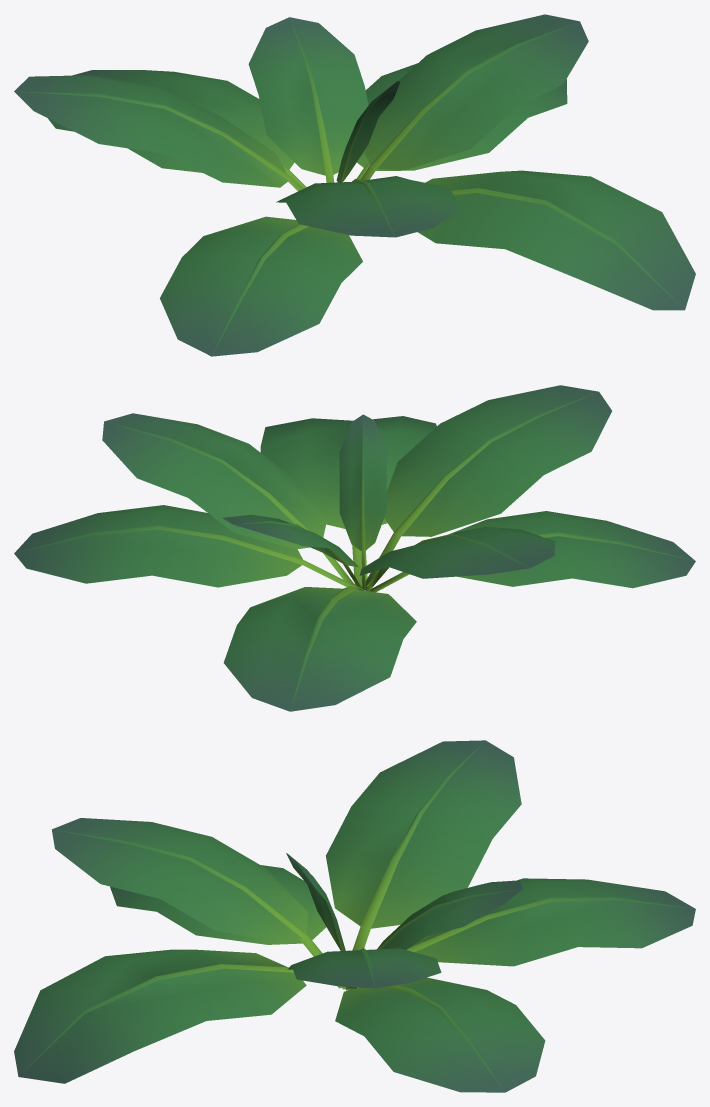
The model's file is plant_33.fbx.
3 renders of one model, top to bottom at view 1: azimuth 30°, elevation 25°; view 2: azimuth 150°, elevation 25°; view 3: azimuth 270°, elevation 25°, orthographic. The views are drawn at different scales.
Parts seen in each view (by area): view 1: plant_33; view 2: plant_33; view 3: plant_33.
Boxes of the visible parts, bbox=[...] form: plant_33: bbox=[14, 14, 695, 356]; plant_33: bbox=[14, 385, 695, 711]; plant_33: bbox=[14, 740, 695, 1092].
Bounding box in the file's own units: 3.77 × 1.08 × 4.3.
